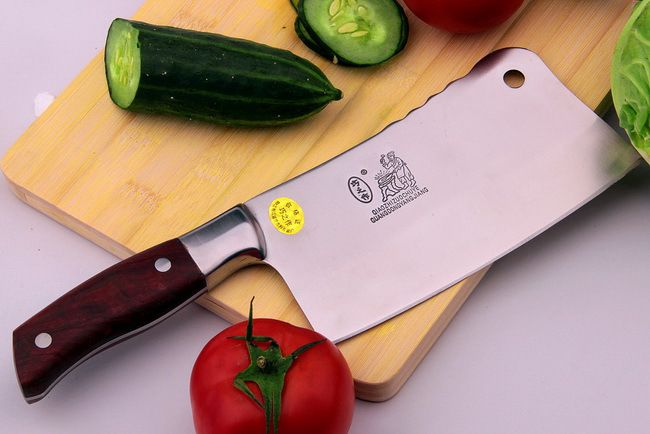knief: (18, 62, 633, 403)
